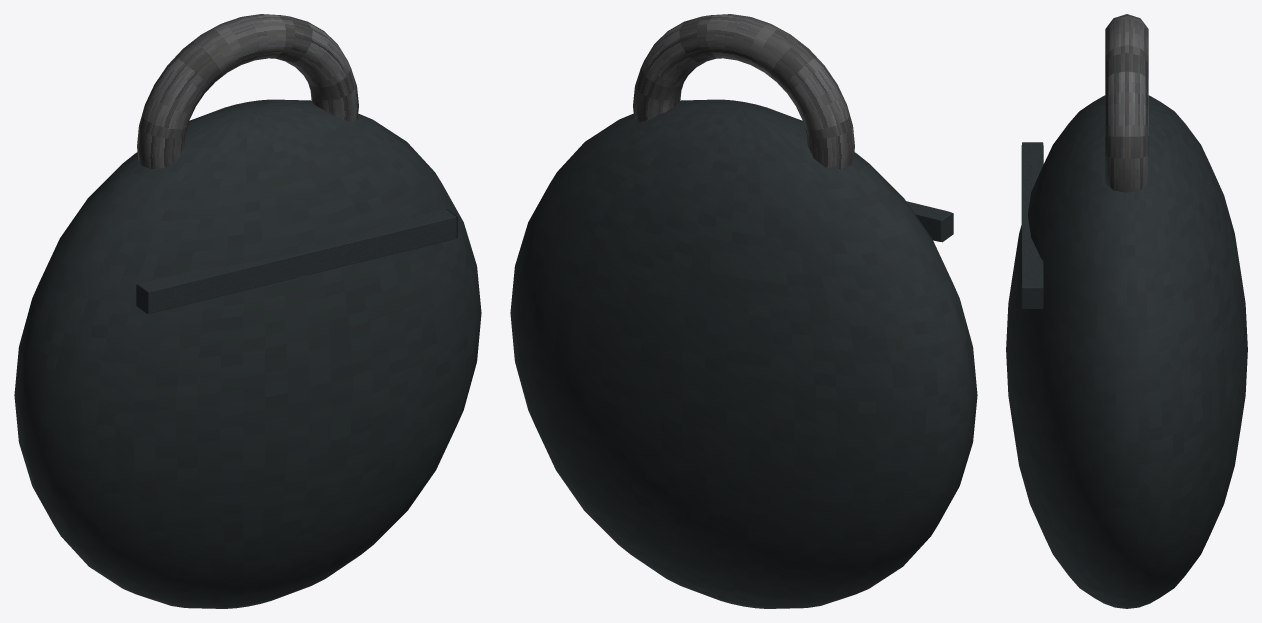
The model's file is mask-bag.glb.
3 renders of one model, left to right at view 1: azimuth 30°, elevation 25°; view 2: azimuth 150°, elevation 25°; view 3: azimuth 270°, elevation 25°, orthographic. The views are drawn at different scales.
Parts seen in each view (by area): view 1: soft-body, strap, zip; view 2: soft-body, strap, zip; view 3: soft-body, strap, zip.
Boxes of the visible parts, bbox=[...] form: soft-body: bbox=[14, 99, 481, 608]; strap: bbox=[137, 14, 358, 169]; zip: bbox=[136, 209, 457, 313]; soft-body: bbox=[510, 99, 977, 608]; strap: bbox=[633, 14, 854, 169]; zip: bbox=[906, 201, 953, 242]; soft-body: bbox=[1006, 95, 1247, 608]; strap: bbox=[1105, 14, 1148, 192]; zip: bbox=[1021, 142, 1043, 308].
Size of the model in its own units: 0.29 by 0.3582 by 0.14.
Materials: 2 (2 with a texture image).
